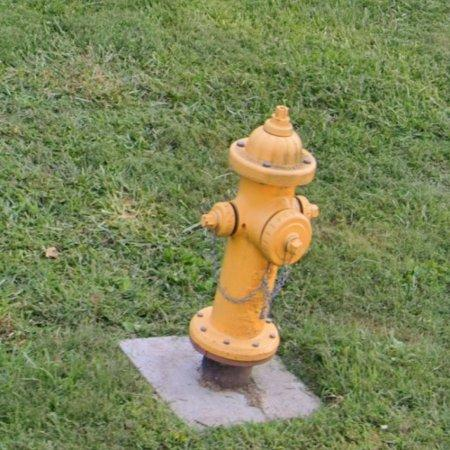a fire hydrant: (190, 106, 319, 367)
